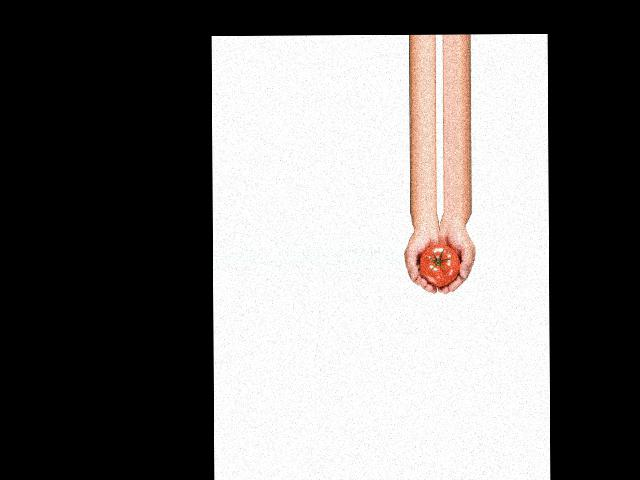tomato: (419, 244, 460, 286)
